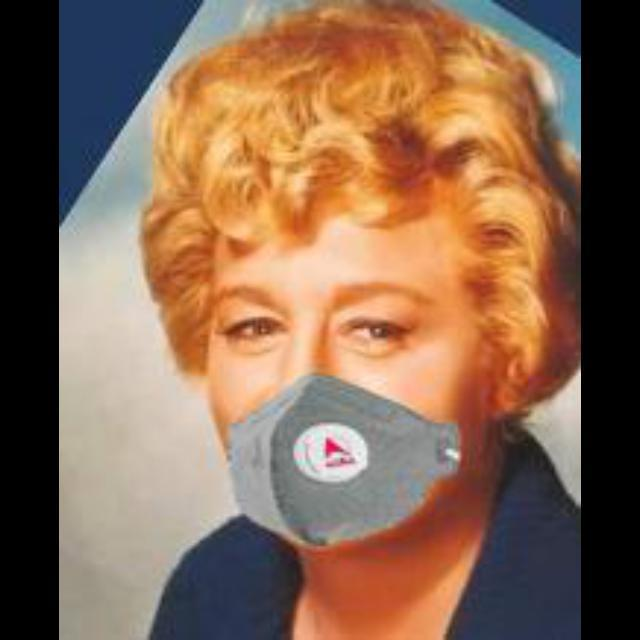suspicion: (166, 138, 512, 556)
